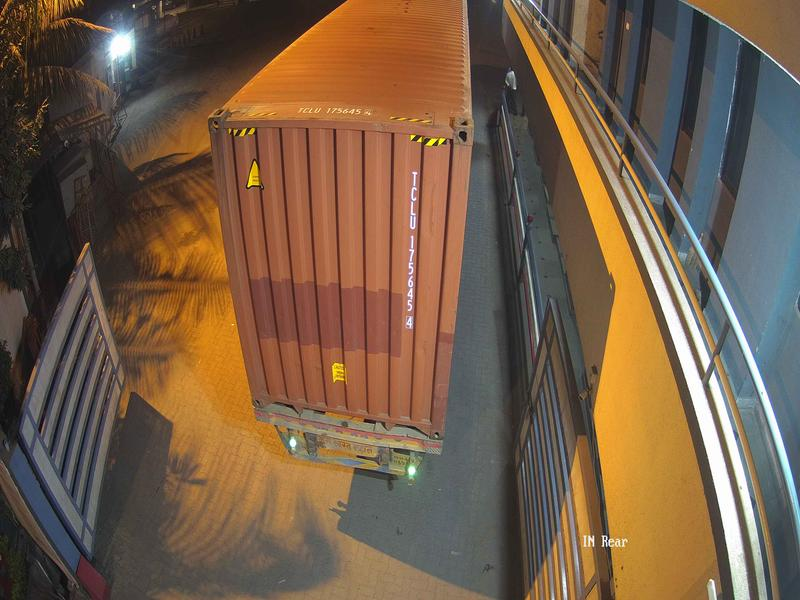container: (204, 107, 489, 452)
